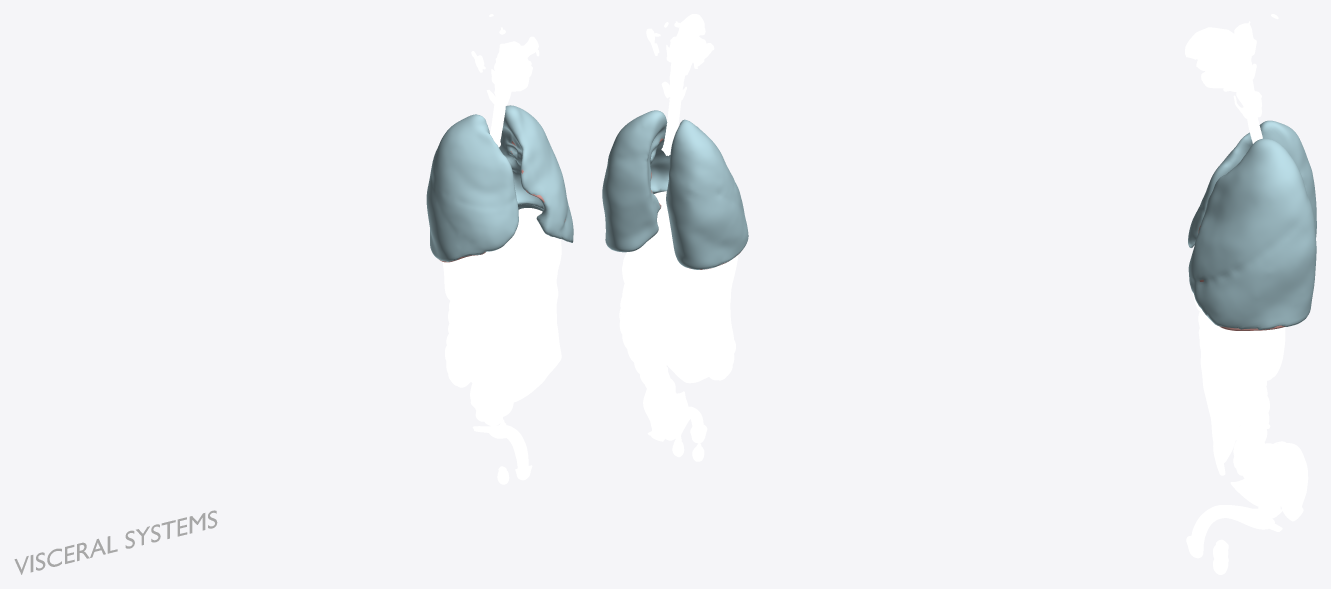
The model's file is 8-visceral-systems.glb.
3 renders of one model, left to right at view 1: azimuth 30°, elevation 25°; view 2: azimuth 150°, elevation 25°; view 3: azimuth 270°, elevation 25°, orthographic. The views are drawn at different scales.
Parts seen in each view (by area): view 1: Pleura, Greater omentum, Liver, Visceral systems.g, Ascending colon, Corpus cavernosum of penis, Stomach; view 2: Pleura, Greater omentum, Ascending colon, Descending colon, Sigmoid colon, Liver, Kidney.l, Kidney.r; view 3: Pleura, Greater omentum, Descending colon, Sigmoid colon, Corpus cavernosum of penis, Mucosa of nasal cavity, Urinary bladder, Kidney.l, Gingiva, Mesocolic taenia, Nasopharynx, Stomach (+11 smaller).
Boxes of the visible parts, x1,y1,x2,y2 form: Pleura: (426,105,573,261); Greater omentum: (454,269,561,403); Liver: (442,208,557,302); Visceral systems.g: (14,510,217,574); Ascending colon: (445,301,470,387); Corpus cavernosum of penis: (472,419,528,468); Stomach: (509,238,561,289); Pleura: (602,110,748,269); Greater omentum: (638,276,733,383); Ascending colon: (703,292,735,380); Descending colon: (620,284,675,398); Sigmoid colon: (643,374,675,441); Liver: (654,191,738,296); Kidney.l: (622,250,652,297); Kidney.r: (686,271,711,318); Pleura: (1188,120,1316,329); Greater omentum: (1198,329,1242,475); Descending colon: (1234,341,1286,483); Sigmoid colon: (1280,443,1308,521); Corpus cavernosum of penis: (1191,505,1282,546); Mucosa of nasal cavity: (1185,27,1228,60); Urinary bladder: (1230,478,1286,507); Kidney.l: (1259,327,1285,380); Gingiva: (1196,57,1236,88); Mesocolic taenia: (1238,344,1284,473); Nasopharynx: (1228,30,1252,61); Stomach: (1198,311,1250,345).
Bounding box in the file's own units: 1.13 × 0.8931 × 0.1926.
